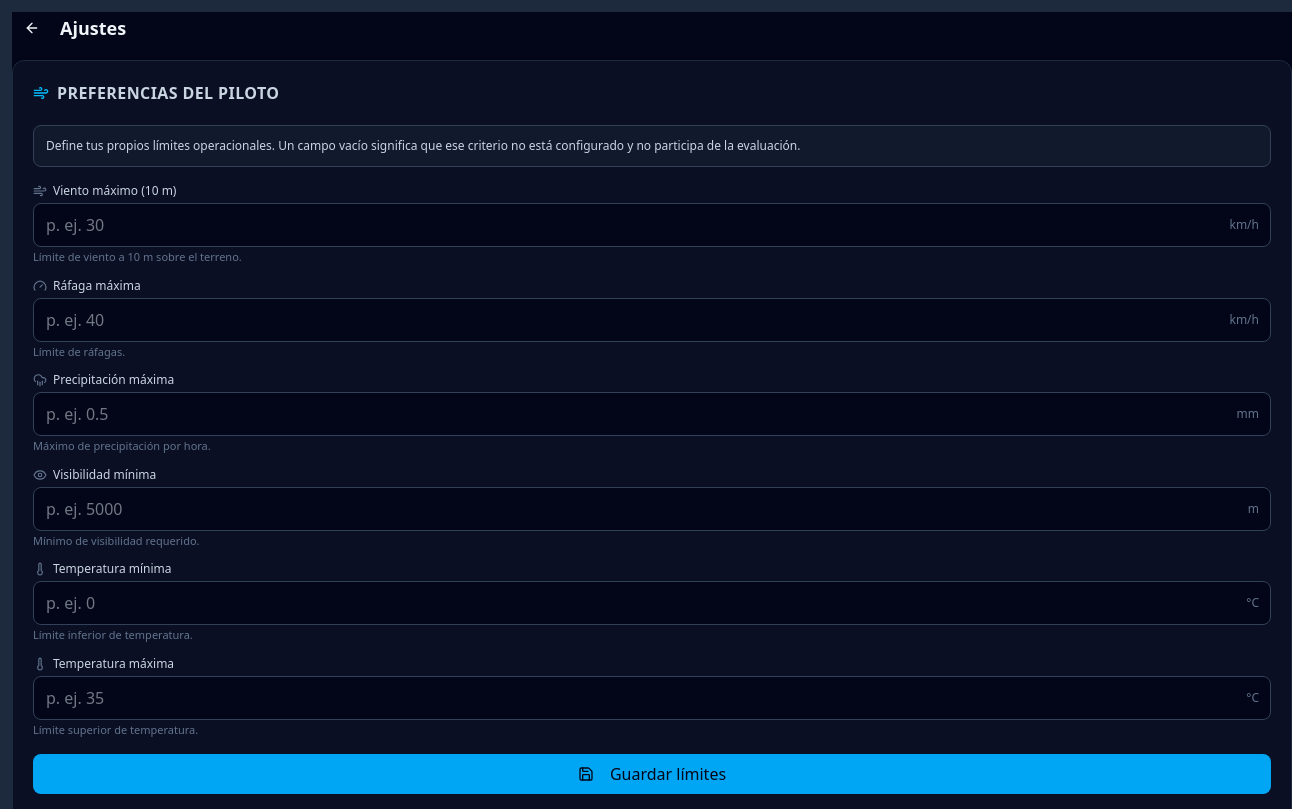
SettingsPage › rejects an inverted temperature range
The image size is (1292, 809).
In the field labelled "Temperatura mínima": (652, 603) [33, 581, 1271, 625], type "40"
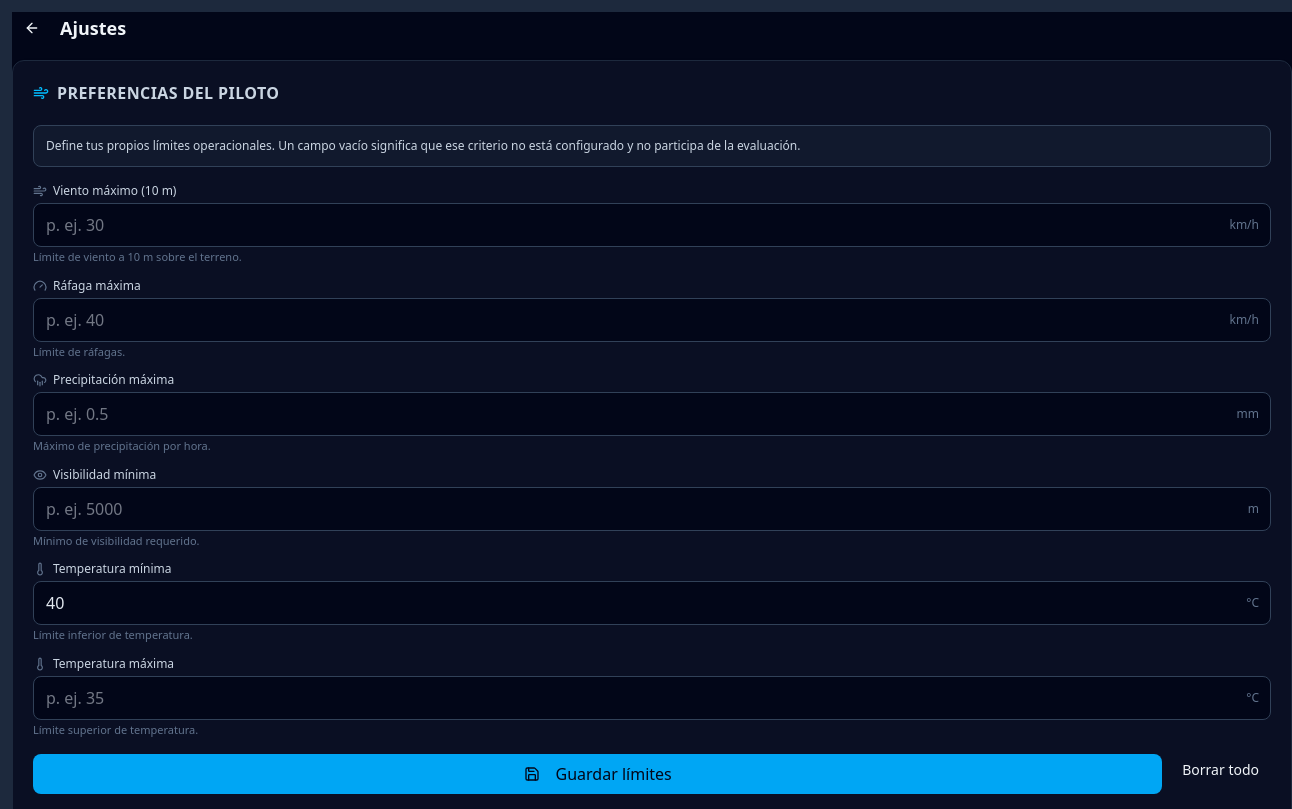
In the field labelled "Temperatura máxima": (652, 698) [33, 676, 1271, 720], type "10"
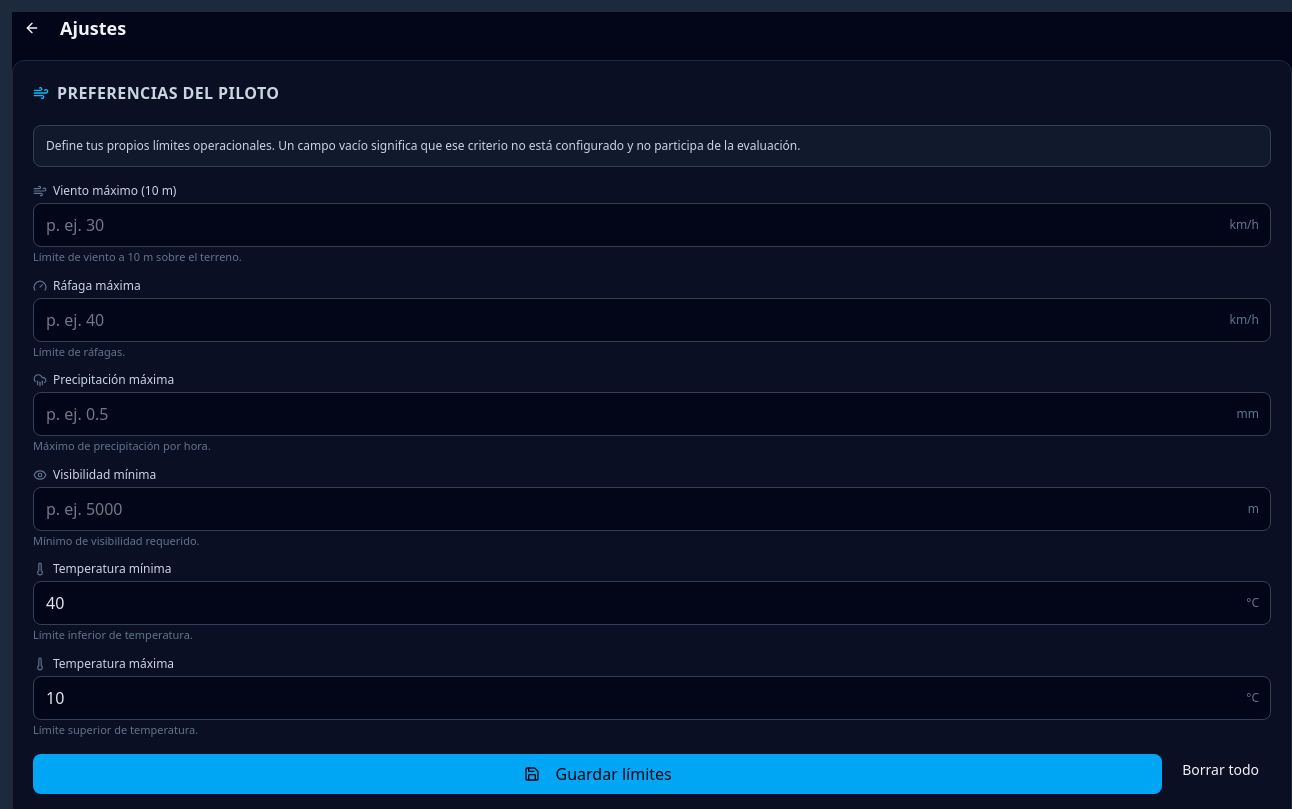
Click the button "Guardar límites": (598, 774) [33, 754, 1162, 794]
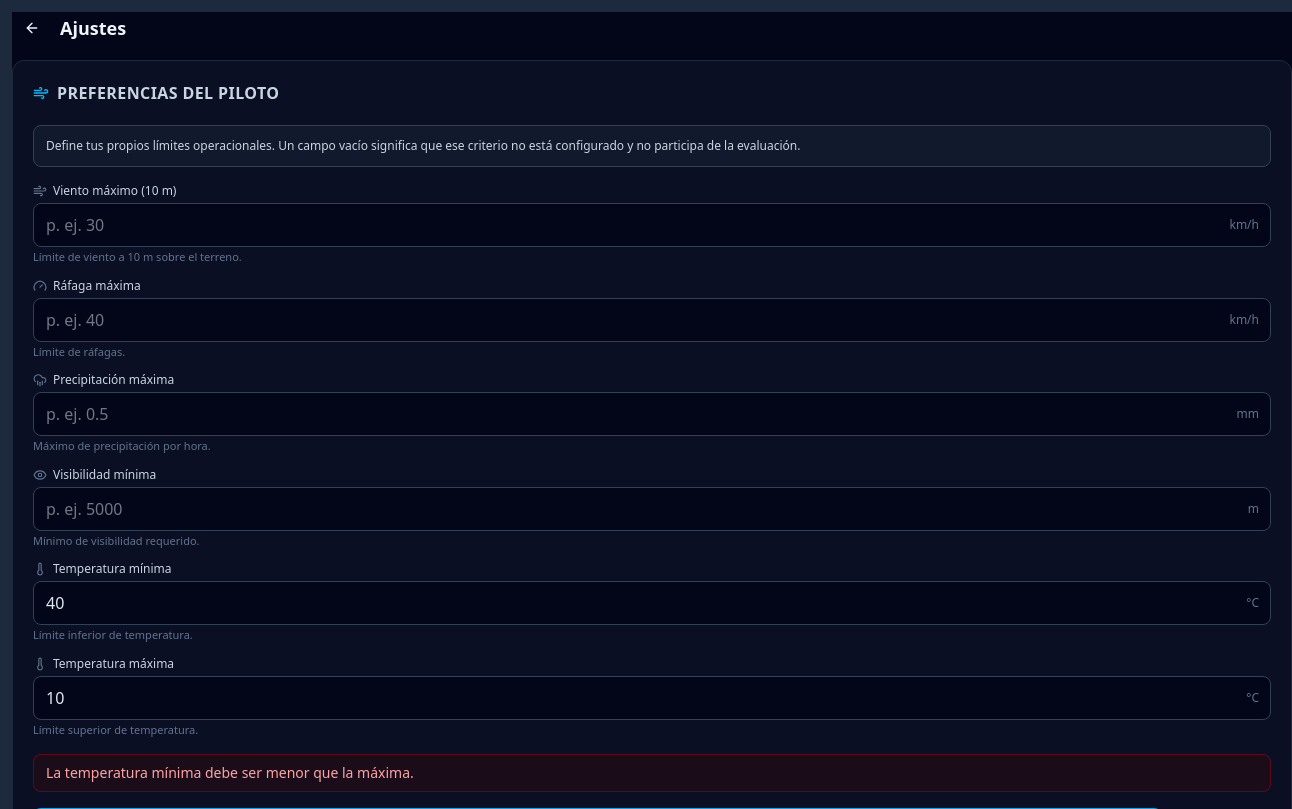
Result: the text "La temperatura mínima debe ser menor que la máxima." is shown at [33, 754, 1271, 792]
